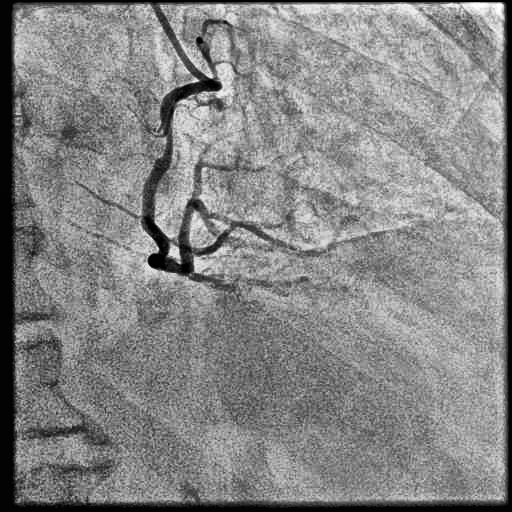rca: (141, 80, 207, 275)
